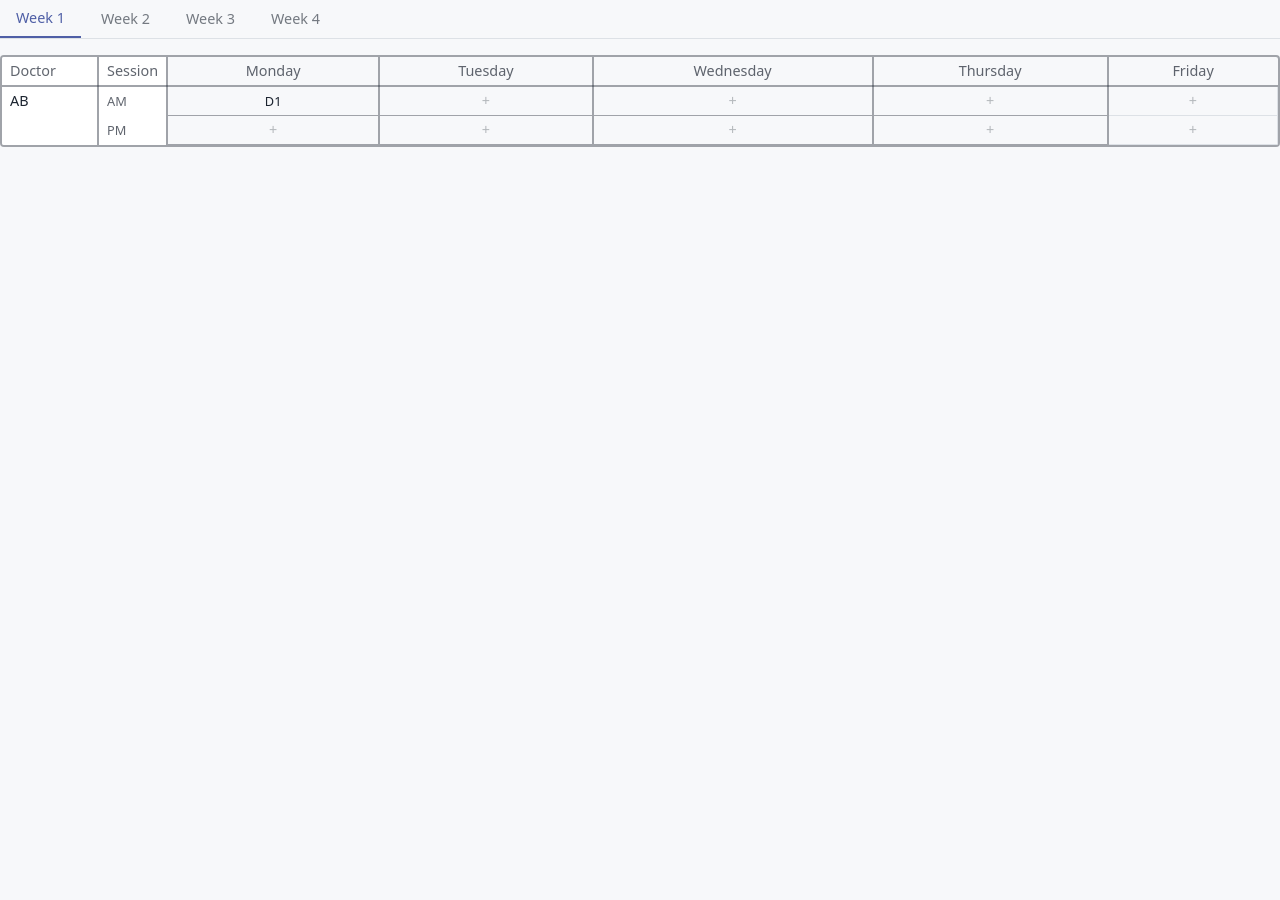
Test case: MasterRotaGrid › clicking a session cell opens the MasterCellEditPopover menu
This screenshot has width=1280, height=900.
What coordinates should you click on to do the following:
click the text "D1"
I would click on:
 (273, 101)
Its box is [265,92,282,110].
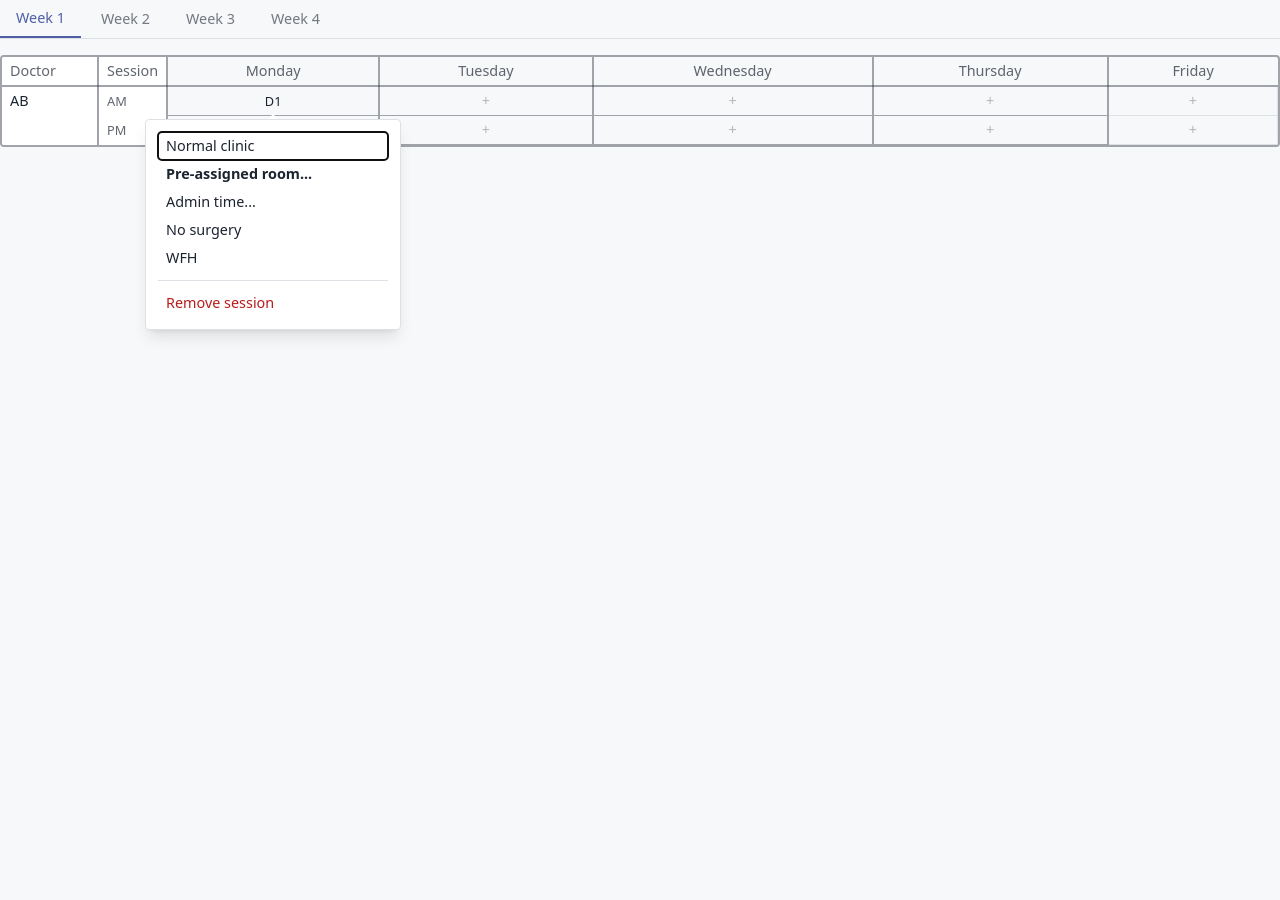
Result: the button "Normal clinic" is shown at [158,132,388,160]
Result: the button "No surgery" is shown at [158,216,388,244]
Result: the button "WFH" is shown at [158,244,388,272]
